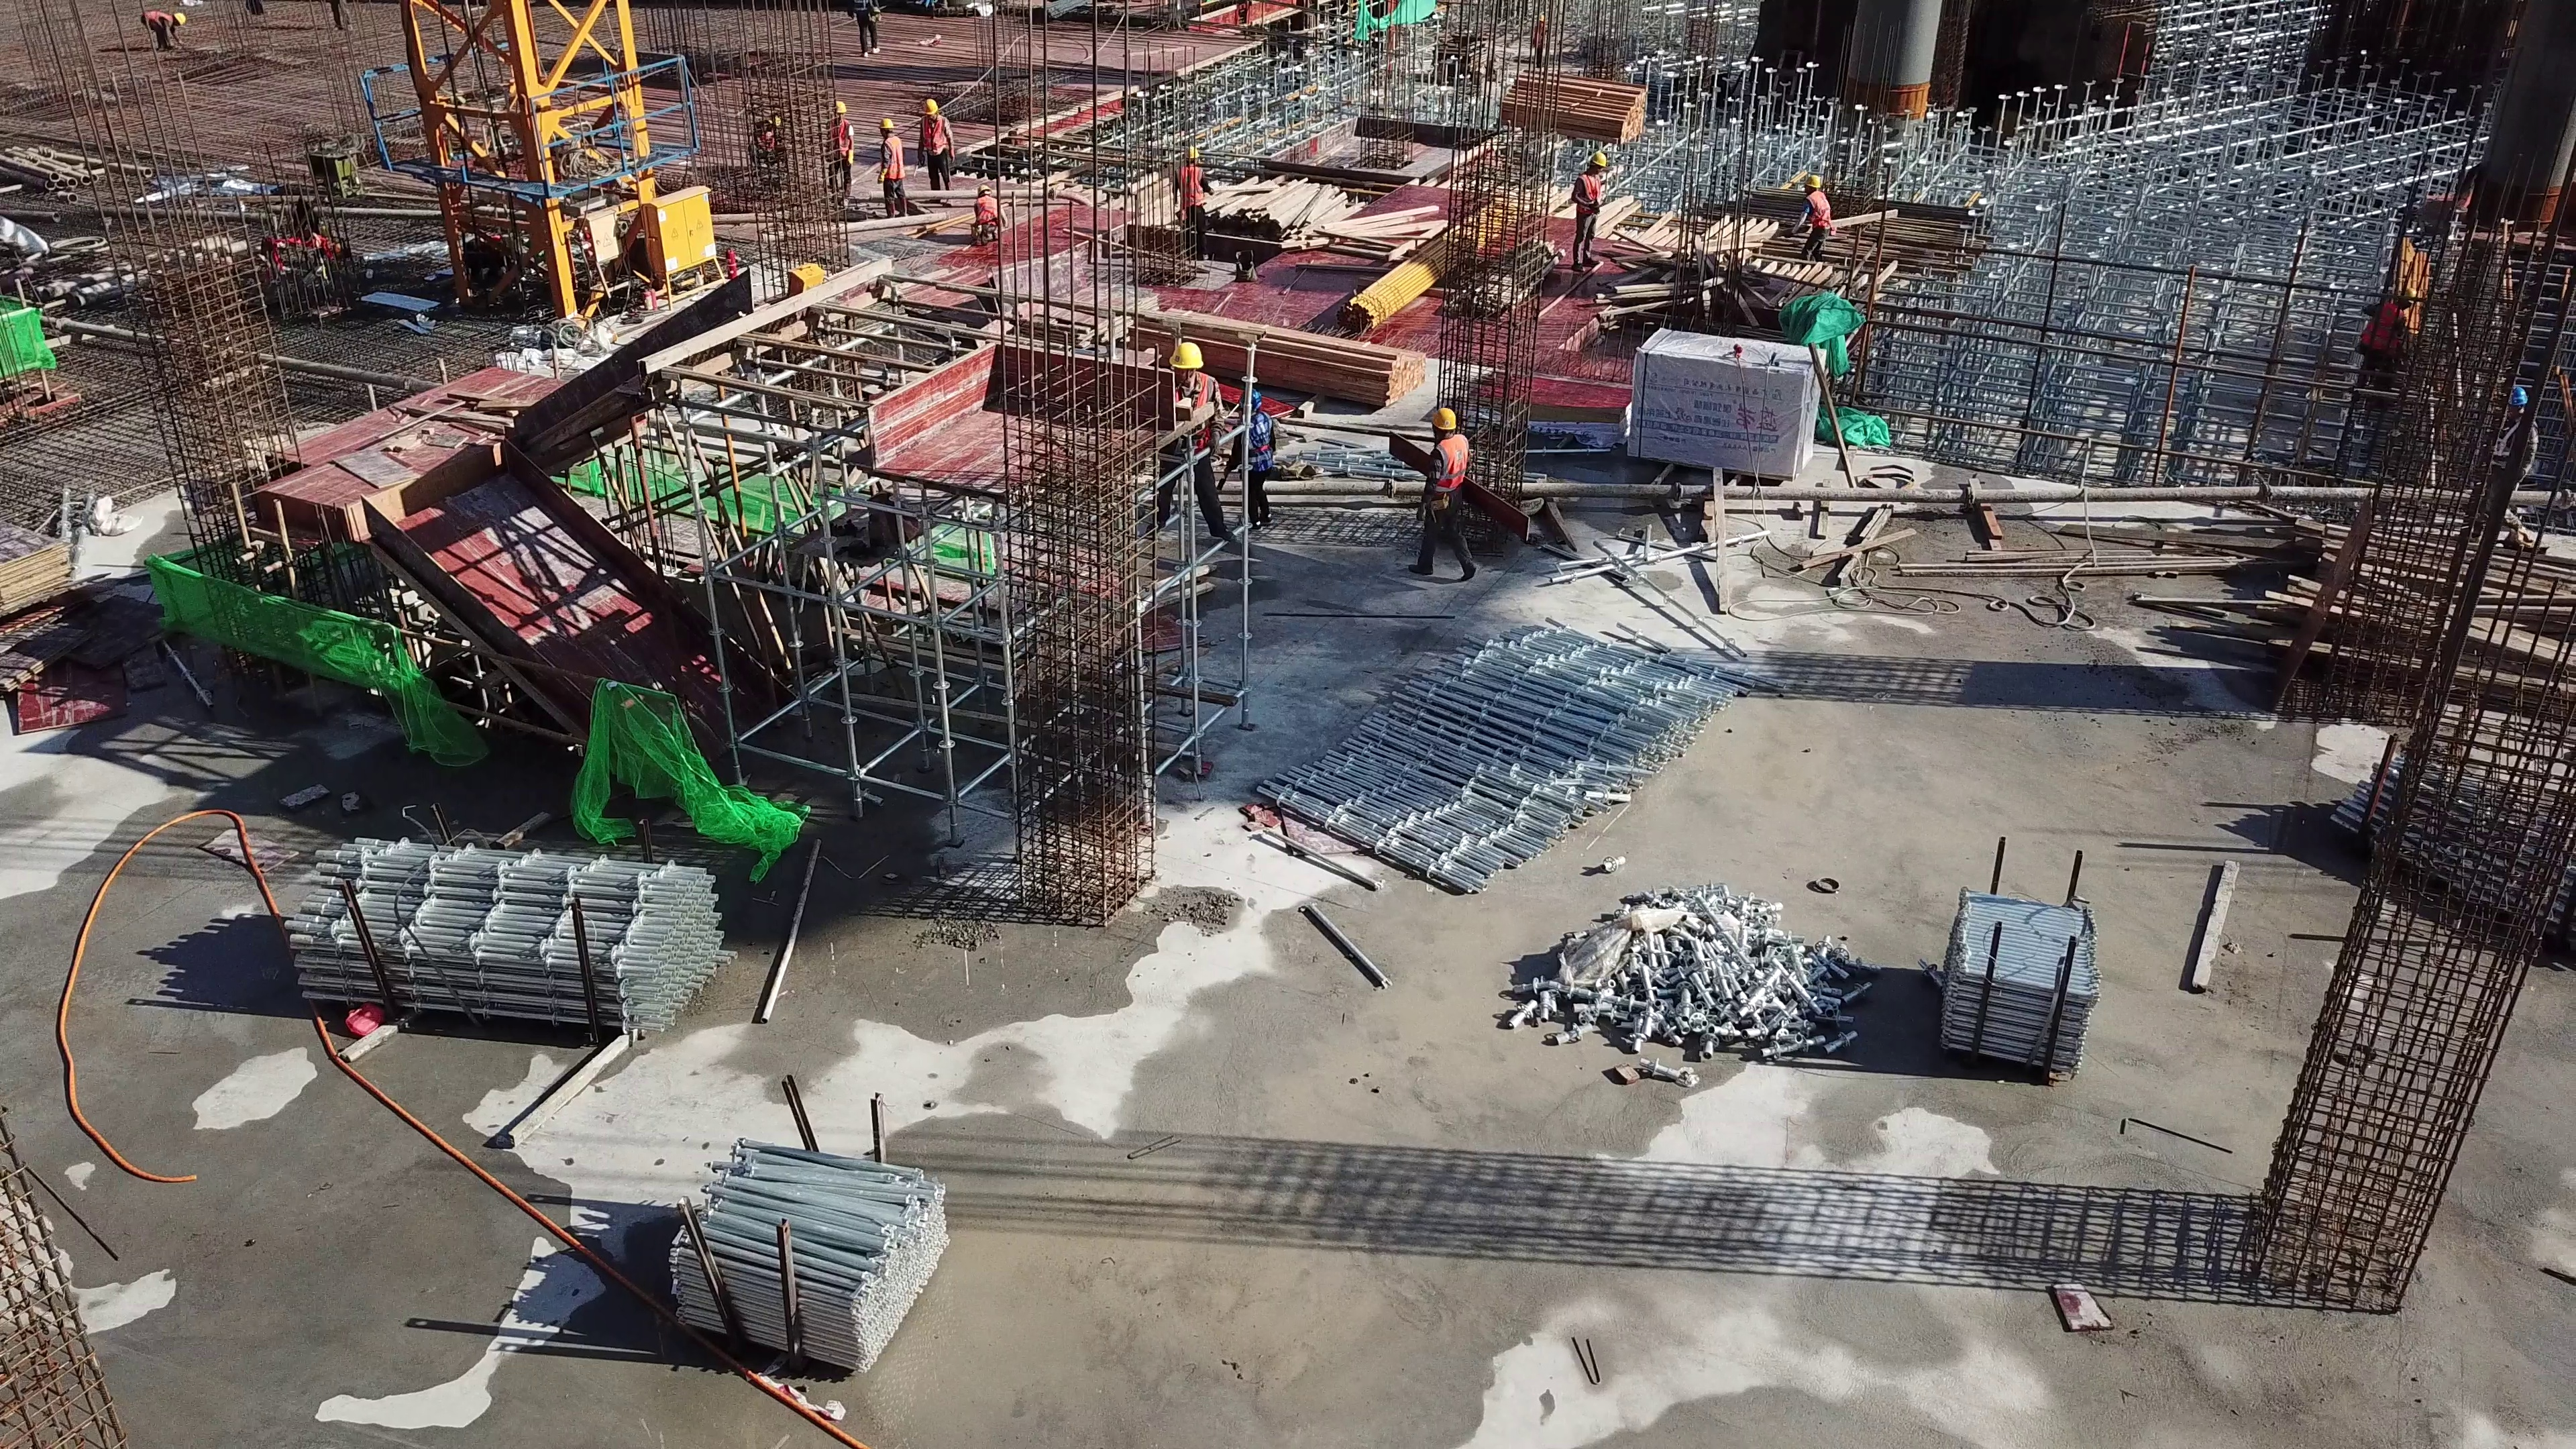board: (1032, 281, 1155, 350), (1472, 378, 1621, 431), (1, 518, 66, 606)
ebox: (636, 189, 718, 291), (578, 220, 624, 298)
helmet: (1169, 344, 1206, 370), (1431, 407, 1457, 432), (1240, 390, 1263, 414), (920, 97, 938, 117), (1592, 150, 1608, 171), (2509, 388, 2526, 407), (828, 101, 849, 111), (880, 117, 896, 130), (1183, 146, 1197, 160), (1805, 174, 1820, 189), (174, 11, 186, 24), (978, 182, 989, 193)
person: (1146, 343, 1237, 543), (2457, 385, 2539, 531), (1409, 408, 1477, 576), (1222, 387, 1276, 529), (2359, 289, 2413, 381), (1173, 147, 1210, 254), (1572, 152, 1604, 267), (1790, 174, 1832, 262), (823, 99, 854, 205), (916, 99, 953, 194), (877, 116, 908, 217), (975, 184, 1007, 241), (142, 9, 184, 50), (847, 1, 877, 50), (752, 115, 783, 165), (1529, 13, 1544, 65)
rebar: (1033, 1, 1091, 30)
scaffold: (1248, 632, 1731, 898), (297, 835, 712, 1032), (662, 1138, 945, 1376), (1942, 888, 2096, 1070)
vest: (1170, 372, 1214, 449), (2363, 303, 2404, 355), (1436, 434, 1467, 491), (1243, 411, 1270, 474), (2493, 415, 2520, 472), (1178, 165, 1203, 209), (922, 118, 947, 155), (885, 140, 906, 182), (1805, 189, 1828, 229), (1578, 174, 1600, 213), (828, 119, 847, 152), (979, 196, 998, 223), (143, 11, 168, 28), (854, 1, 868, 15)
wood: (1134, 309, 1429, 411), (1497, 68, 1644, 144)
